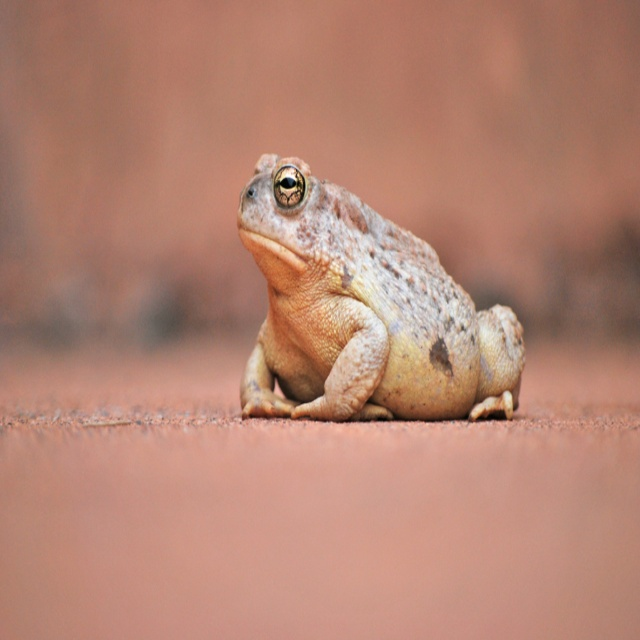Frog: (239, 149, 524, 421)
